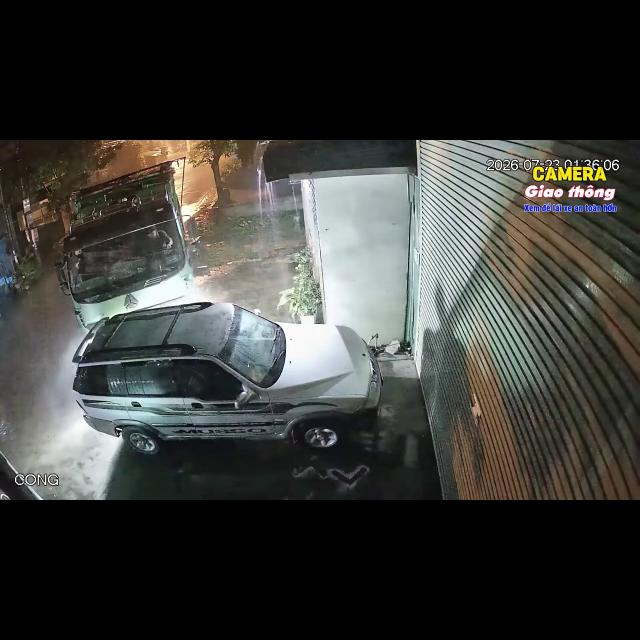car: (73, 303, 382, 453)
truck: (57, 161, 198, 327)
